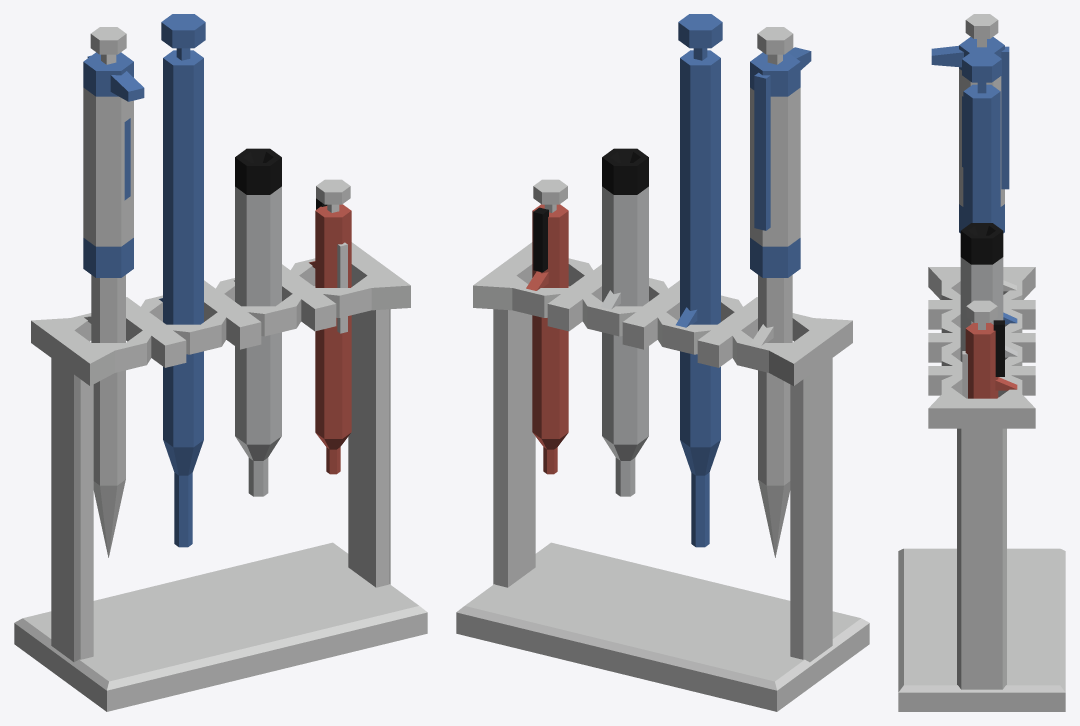
Rendered from pipette-stand-with-four-a6856c.glb.
The picture shows the model from 3 angles, left to right: view 1: azimuth 30°, elevation 25°; view 2: azimuth 150°, elevation 25°; view 3: azimuth 270°, elevation 25°; orthographic projection. The views are drawn at different scales.
Visible parts, largest first — view 1: pipette-stand, micropipette, long-pipette, capped-pipette, mini-pipette; view 2: pipette-stand, micropipette, long-pipette, capped-pipette, mini-pipette; view 3: pipette-stand, long-pipette, micropipette, capped-pipette, mini-pipette.
Boxes of the visible parts, x1,y1,x2,y2 form: pipette-stand: (14,242,427,711); micropipette: (83,27,144,557); long-pipette: (159,14,205,547); capped-pipette: (234,148,281,496); mini-pipette: (309,179,351,474); pipette-stand: (456,242,869,711); micropipette: (750,27,811,557); long-pipette: (676,14,722,547); capped-pipette: (600,148,648,496); mini-pipette: (526,179,568,474); pipette-stand: (898,267,1065,711); long-pipette: (962,51,1017,324); micropipette: (931,14,1016,291); capped-pipette: (960,223,1017,397); mini-pipette: (962,300,1017,398).
Size of the model in its own units: 0.3 by 0.565 by 0.15.
